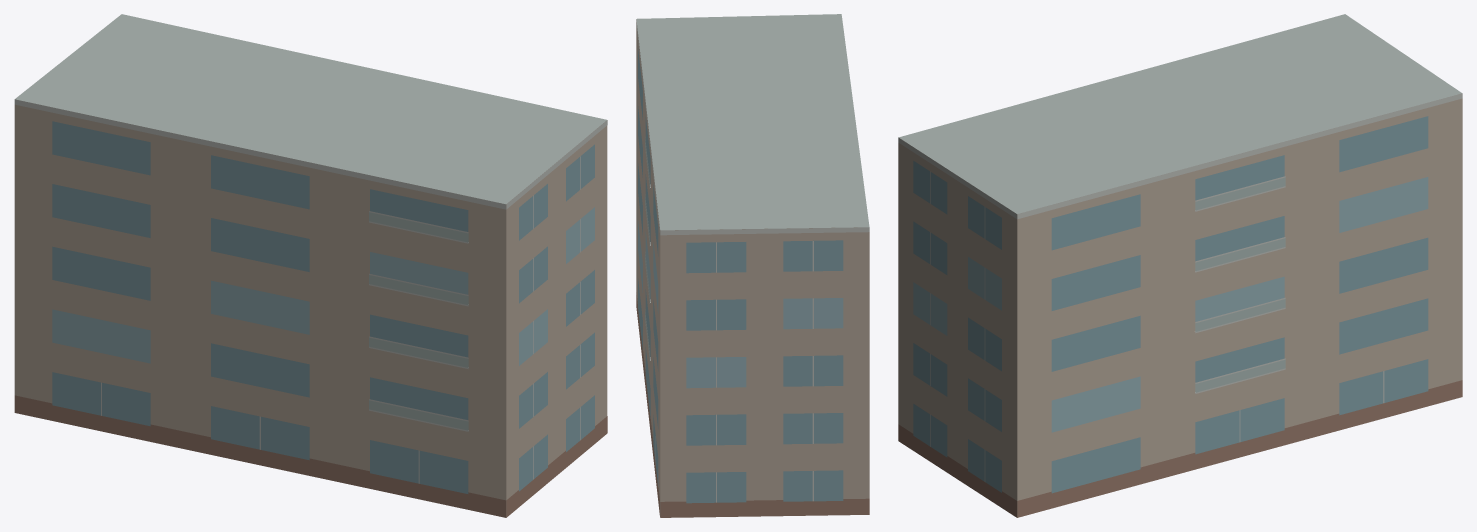
The model's file is survey-upis-32756115.glb.
3 views of the same model, side by side, from view 1: azimuth 30°, elevation 25°; view 2: azimuth 150°, elevation 25°; view 3: azimuth 270°, elevation 25° (orthographic). The views are drawn at different scales.
Visible parts, largest first — view 1: survey-upis-32756115.tmp; view 2: survey-upis-32756115.tmp; view 3: survey-upis-32756115.tmp.
Boxes of the visible parts, bbox=[...] form: survey-upis-32756115.tmp: bbox=[14, 14, 607, 517]; survey-upis-32756115.tmp: bbox=[636, 14, 869, 517]; survey-upis-32756115.tmp: bbox=[898, 14, 1462, 517].
Bounding box in the file's own units: 20.22 × 14.3 × 24.08.
